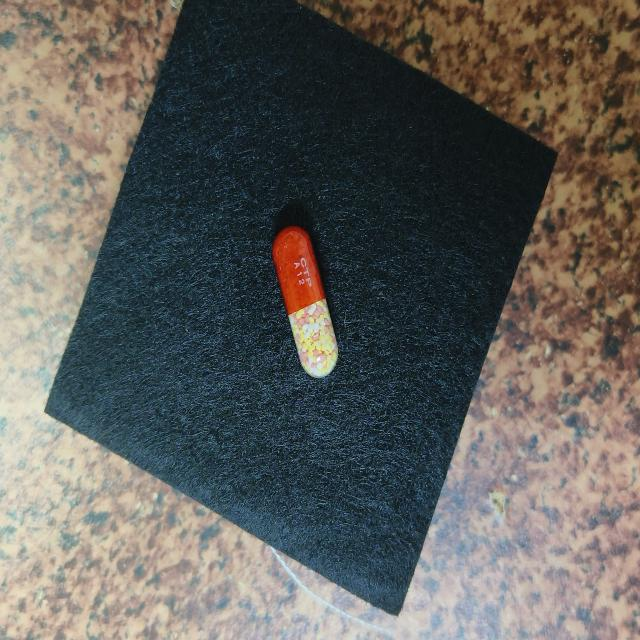Intact Capsule: (272, 226, 338, 378)
